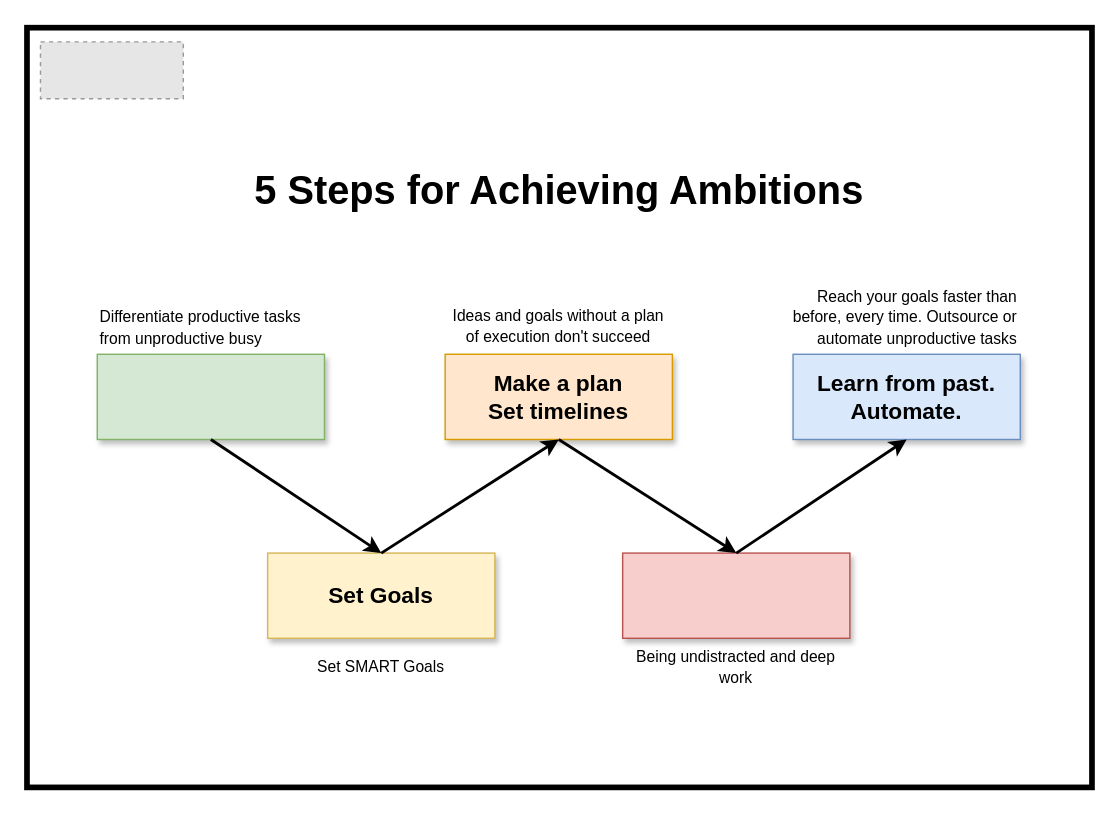
The diagram is 1119 pixels wide and 839 high, and some of its shapes have lost their labels. Grey dashed boxes stand in for pictures. The centre of each missing label's shape, as x and y in pixels:
Focus on Goals: [737,597]
Recognize Priorities: [211,398]
